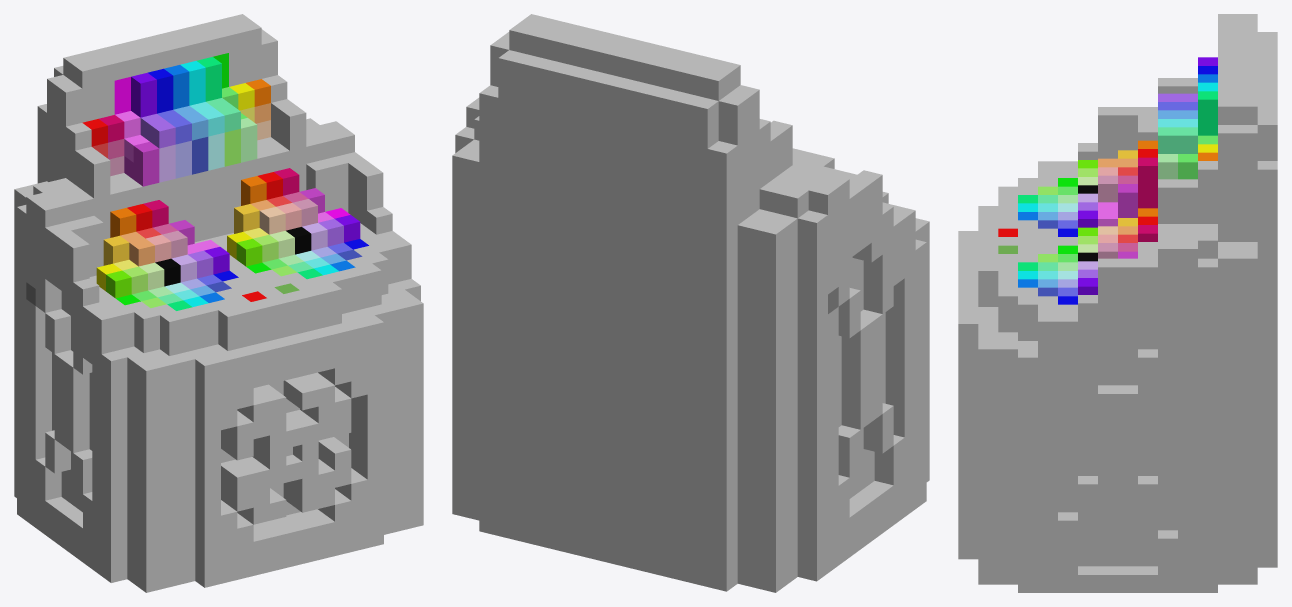
The model's file is controlPanel.fbx.
The picture shows the model from 3 angles, left to right: view 1: azimuth 30°, elevation 25°; view 2: azimuth 150°, elevation 25°; view 3: azimuth 270°, elevation 25°; orthographic projection. The views are drawn at different scales.
Parts seen in each view (by area): view 1: Untitled, Untitled.001; view 2: Untitled; view 3: Untitled, Untitled.001.
Part boxes in pixels (bbox=[...]): Untitled: bbox=[14, 14, 423, 592]; Untitled.001: bbox=[26, 53, 368, 310]; Untitled: bbox=[452, 14, 929, 592]; Untitled: bbox=[958, 14, 1277, 592]; Untitled.001: bbox=[998, 57, 1217, 304].
Bounding box in the file's own units: 190 × 250 × 160.
